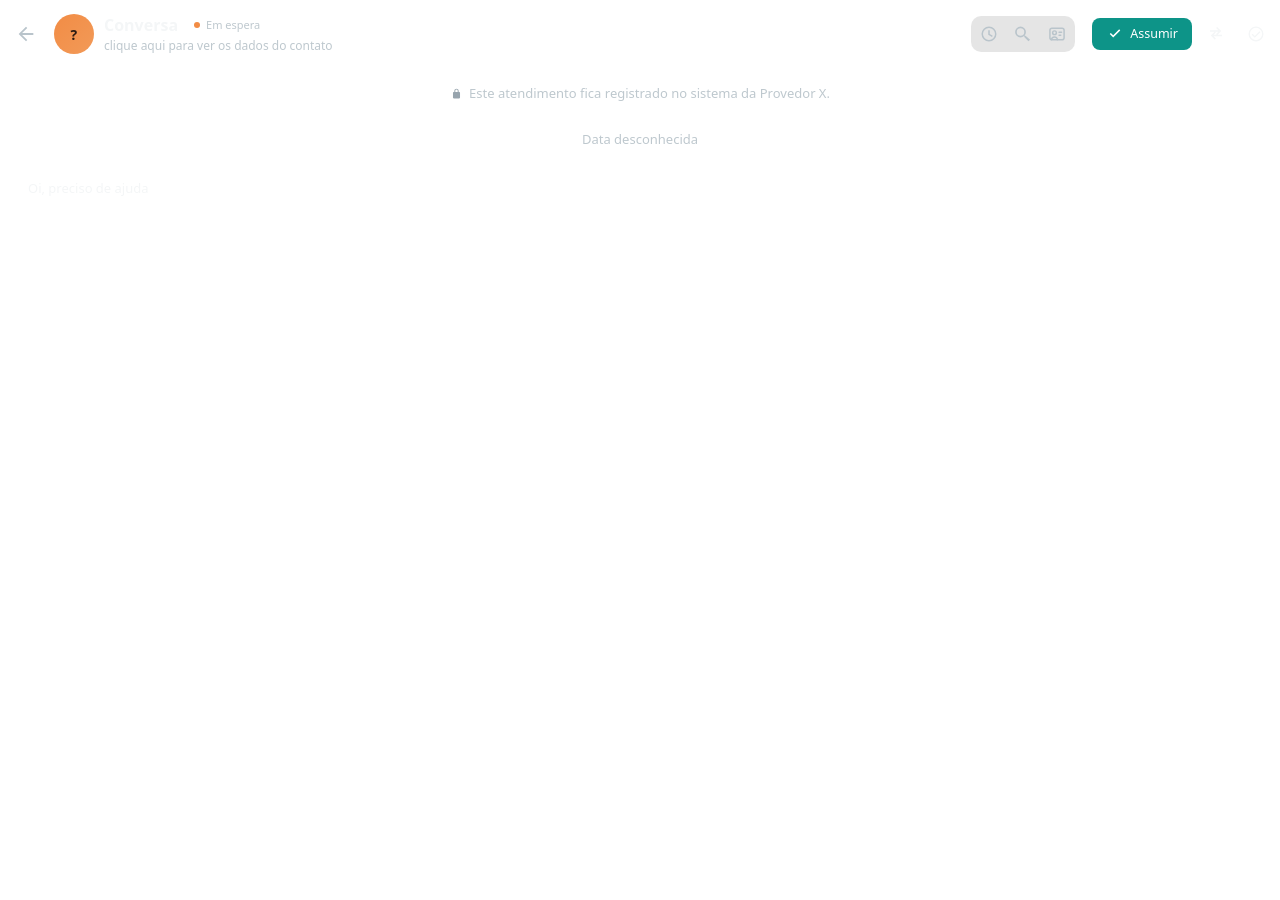
Test: ConversationView › opens the previous-conversations history modal for the conversation contact
The width and height of the screenshot is (1280, 900).
Click the button named "ver atendimentos anteriores": coordinates (989, 34) [973, 18, 1005, 50]
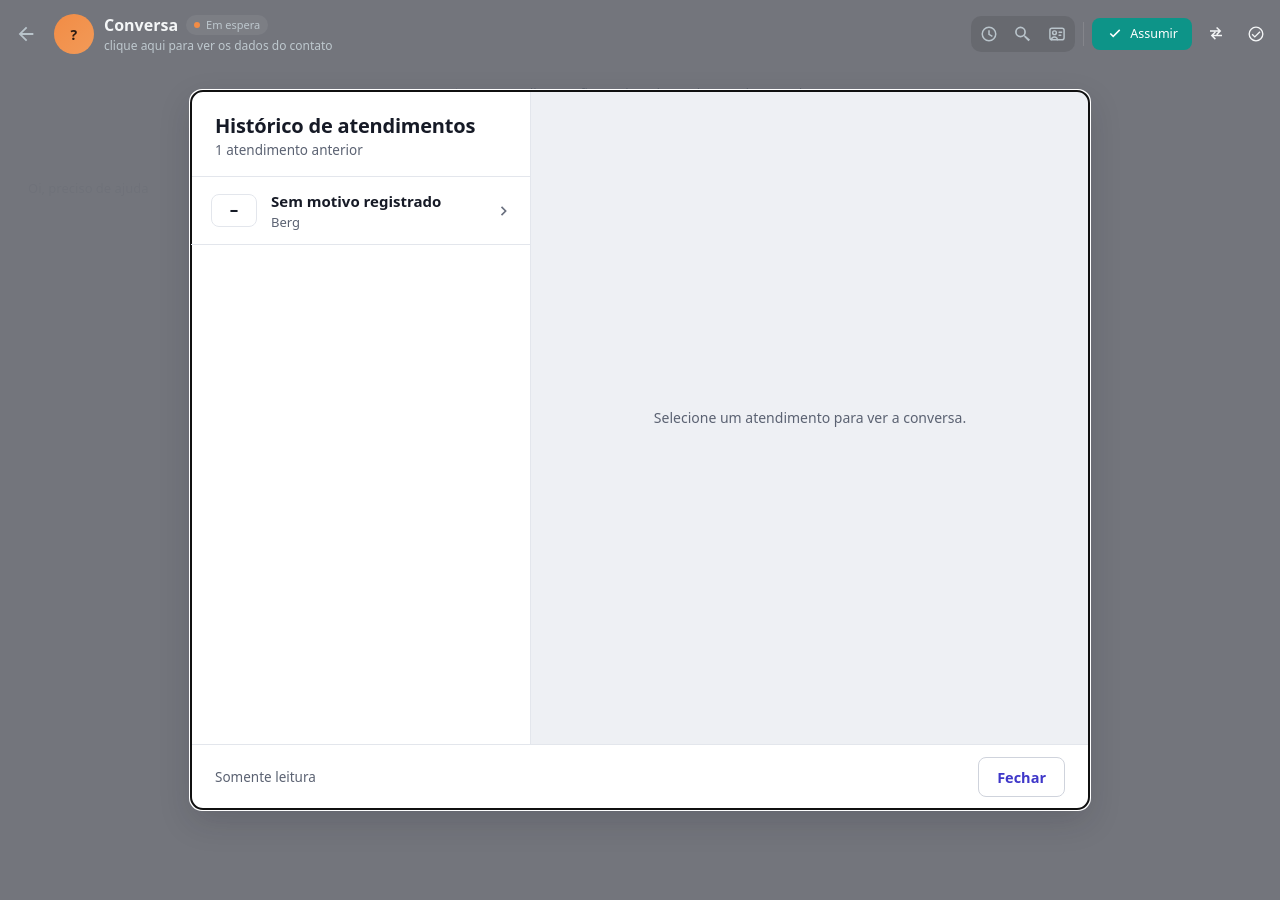
Now the dialog "Histórico de atendimentos" is shown, box [190, 90, 1090, 810]
